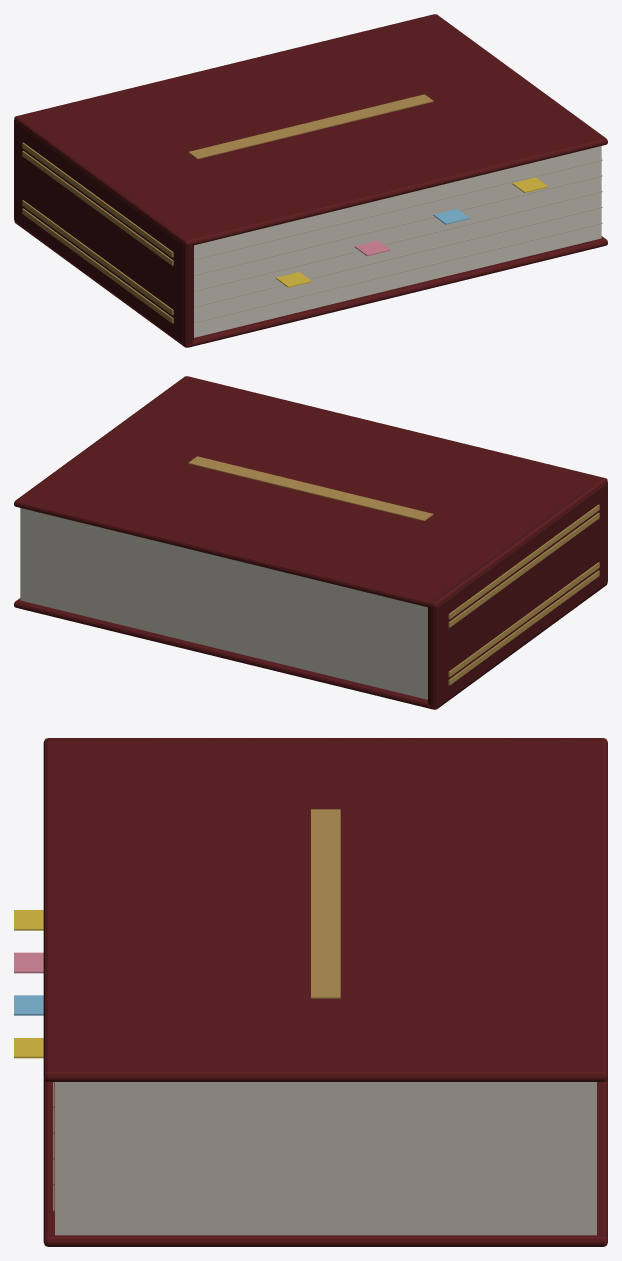
File: lawbook.glb
3 views of the same model, one above another, from view 1: azimuth 30°, elevation 25°; view 2: azimuth 150°, elevation 25°; view 3: azimuth 270°, elevation 25° (orthographic). The views are drawn at different scales.
Parts seen in each view (by area): view 1: lawbook_vc; view 2: lawbook_vc; view 3: lawbook_vc.
Boxes of the visible parts, x1,y1,x2,y2 form: lawbook_vc: (14,14,607,347); lawbook_vc: (14,376,607,709); lawbook_vc: (14,738,607,1246).
Bounding box in the file's own units: 0.2162 × 0.0525 × 0.16.
